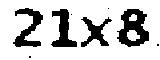1: (48, 4, 77, 52)
2: (9, 4, 42, 51)
8: (117, 3, 152, 54)
x: (80, 11, 113, 52)
